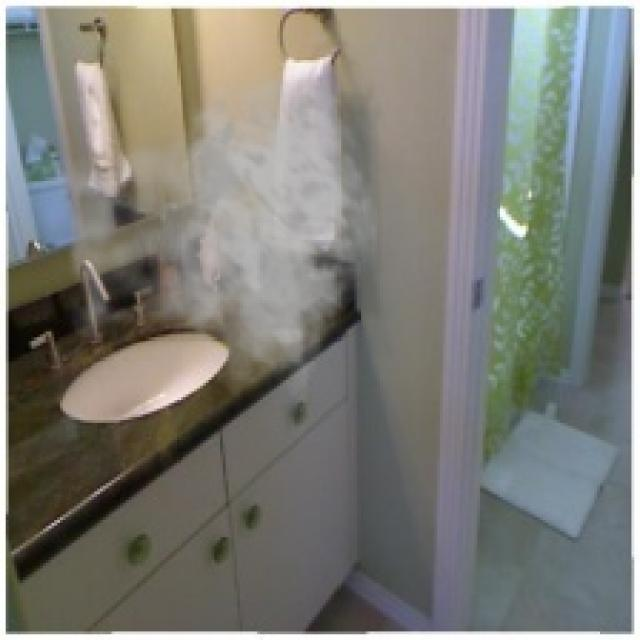Smoke: (37, 60, 380, 403)
